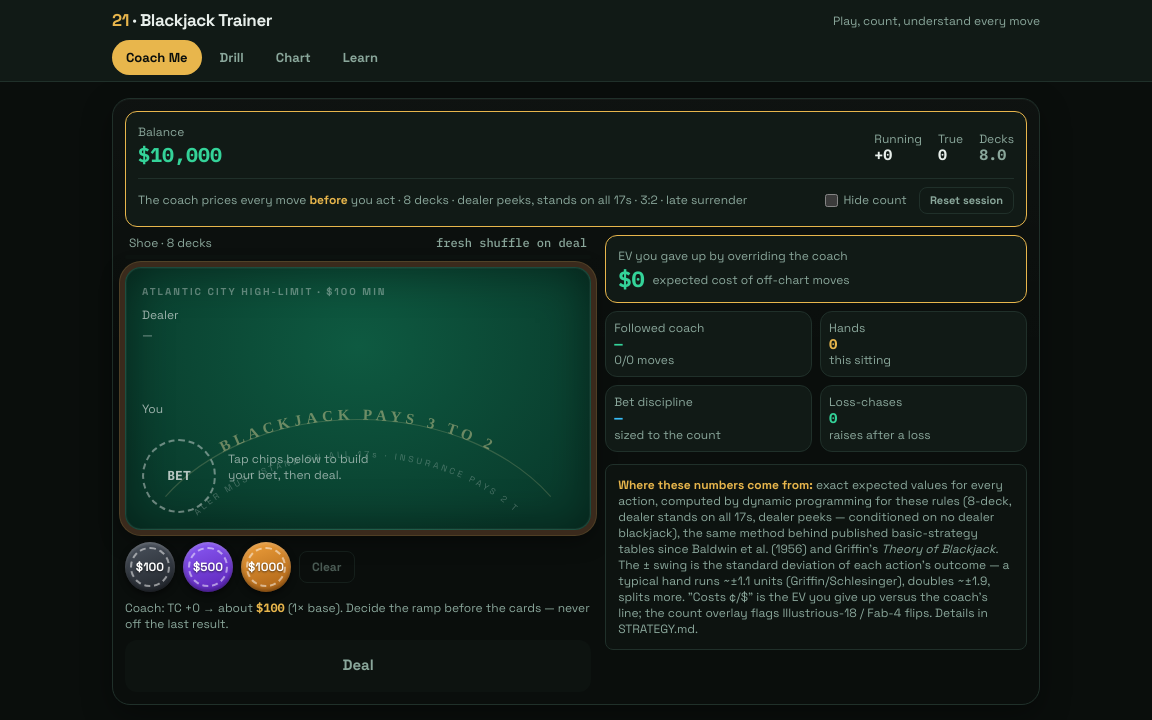
Test: App smoke test › switches to the Chart tab and shows the strategy matrix
The image size is (1152, 720).
Click the button "Chart" at point(293, 57), box x1=262 y1=40 x2=325 y2=75
(page scrolled)
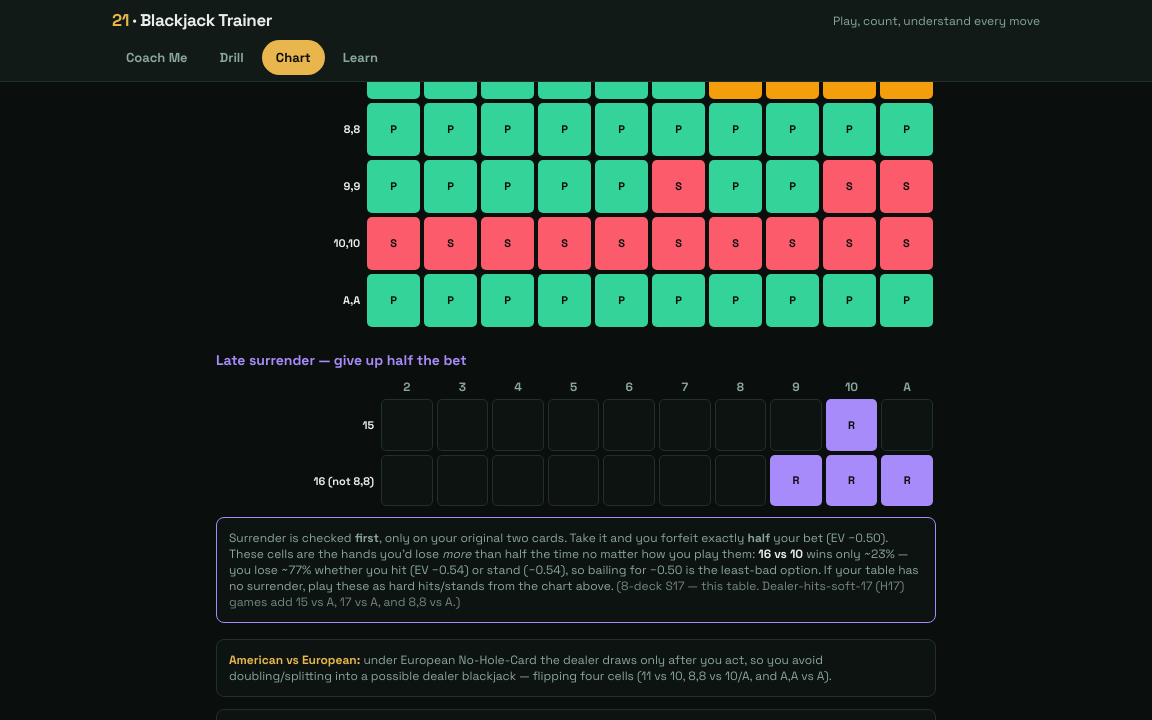
Expected: the text "Late surrender — give up half the bet" is shown, x1=216 y1=351 x2=467 y2=369
